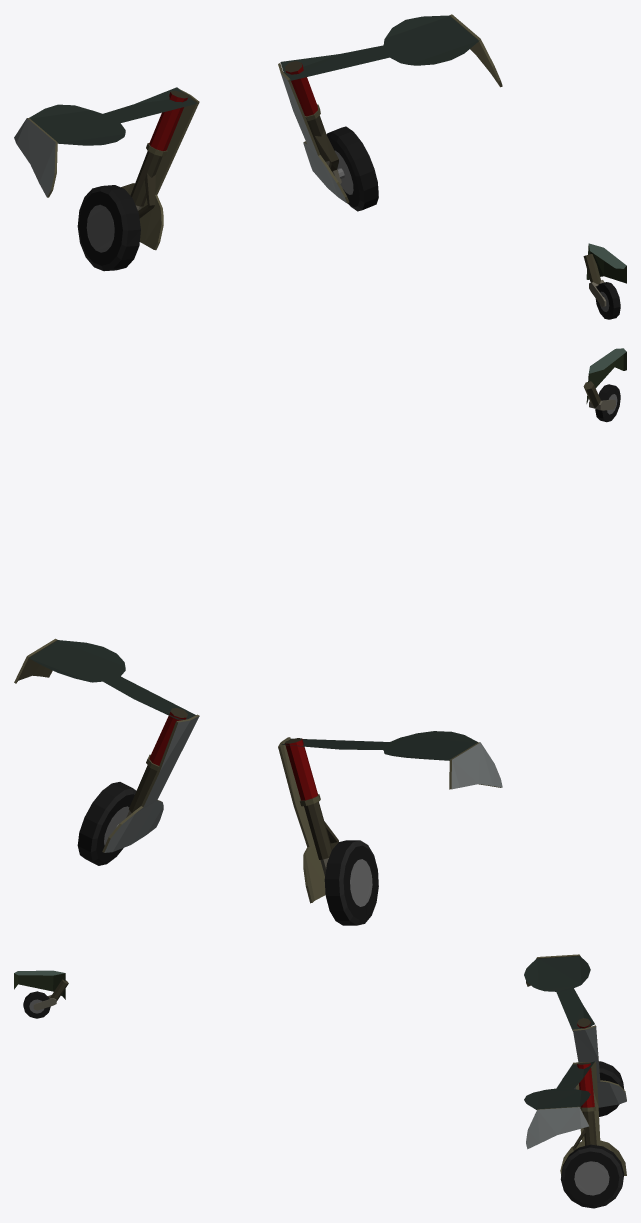
Rendered from Gear_BF109NP.obj.
3 renders of one model, top to bottom at view 1: azimuth 30°, elevation 25°; view 2: azimuth 150°, elevation 25°; view 3: azimuth 270°, elevation 25°, orthographic. The views are drawn at different scales.
Parts seen in each view (by area): view 1: ShapeIndexedFaceSet.117_ShapeIndexedFaceSet.118, ShapeIndexedFaceSet.101_ShapeIndexedFaceSet.102, ShapeIndexedFaceSet.097_ShapeIndexedFaceSet.098, ShapeIndexedFaceSet.110_ShapeIndexedFaceSet.111, ShapeIndexedFaceSet.113_ShapeIndexedFaceSet.114, ShapeIndexedFaceSet.099_ShapeIndexedFaceSet.100, ShapeIndexedFaceSet.104_ShapeIndexedFaceSet.105, ShapeIndexedFaceSet.096_ShapeIndexedFaceSet.097, ShapeIndexedFaceSet.102_ShapeIndexedFaceSet.103, ShapeIndexedFaceSet.108_ShapeIndexedFaceSet.109, ShapeIndexedFaceSet.100_ShapeIndexedFaceSet.101, ShapeIndexedFaceSet.111_ShapeIndexedFaceSet.112 (+4 smaller); view 2: ShapeIndexedFaceSet.117_ShapeIndexedFaceSet.118, ShapeIndexedFaceSet.104_ShapeIndexedFaceSet.105, ShapeIndexedFaceSet.101_ShapeIndexedFaceSet.102, ShapeIndexedFaceSet.110_ShapeIndexedFaceSet.111, ShapeIndexedFaceSet.097_ShapeIndexedFaceSet.098, ShapeIndexedFaceSet.113_ShapeIndexedFaceSet.114, ShapeIndexedFaceSet.102_ShapeIndexedFaceSet.103, ShapeIndexedFaceSet.099_ShapeIndexedFaceSet.100, ShapeIndexedFaceSet.096_ShapeIndexedFaceSet.097; view 3: ShapeIndexedFaceSet.117_ShapeIndexedFaceSet.118, ShapeIndexedFaceSet.110_ShapeIndexedFaceSet.111, ShapeIndexedFaceSet.115_ShapeIndexedFaceSet.116, ShapeIndexedFaceSet.095_ShapeIndexedFaceSet.096, ShapeIndexedFaceSet.105_ShapeIndexedFaceSet.106, ShapeIndexedFaceSet.106_ShapeIndexedFaceSet.107, ShapeIndexedFaceSet.109_ShapeIndexedFaceSet.110, ShapeIndexedFaceSet.124_ShapeIndexedFaceSet.125, ShapeIndexedFaceSet.108_ShapeIndexedFaceSet.109, ShapeIndexedFaceSet.111_ShapeIndexedFaceSet.112, ShapeIndexedFaceSet.101_ShapeIndexedFaceSet.102.
Part boxes in pixels (left/top/right/bottom): ShapeIndexedFaceSet.117_ShapeIndexedFaceSet.118: left=29, top=15, right=479, bottom=145; ShapeIndexedFaceSet.101_ShapeIndexedFaceSet.102: left=79, top=185, right=140, bottom=271; ShapeIndexedFaceSet.097_ShapeIndexedFaceSet.098: left=121, top=89, right=199, bottom=250; ShapeIndexedFaceSet.110_ShapeIndexedFaceSet.111: left=329, top=126, right=378, bottom=209; ShapeIndexedFaceSet.113_ShapeIndexedFaceSet.114: left=14, top=118, right=55, bottom=196; ShapeIndexedFaceSet.099_ShapeIndexedFaceSet.100: left=130, top=90, right=187, bottom=218; ShapeIndexedFaceSet.104_ShapeIndexedFaceSet.105: left=280, top=73, right=346, bottom=202; ShapeIndexedFaceSet.096_ShapeIndexedFaceSet.097: left=86, top=204, right=114, bottom=252; ShapeIndexedFaceSet.102_ShapeIndexedFaceSet.103: left=149, top=92, right=187, bottom=151; ShapeIndexedFaceSet.108_ShapeIndexedFaceSet.109: left=285, top=61, right=338, bottom=171; ShapeIndexedFaceSet.100_ShapeIndexedFaceSet.101: left=77, top=186, right=127, bottom=270; ShapeIndexedFaceSet.111_ShapeIndexedFaceSet.112: left=285, top=63, right=317, bottom=116; ShapeIndexedFaceSet.117_ShapeIndexedFaceSet.118: left=29, top=640, right=477, bottom=760; ShapeIndexedFaceSet.104_ShapeIndexedFaceSet.105: left=104, top=716, right=199, bottom=852; ShapeIndexedFaceSet.101_ShapeIndexedFaceSet.102: left=325, top=840, right=378, bottom=925; ShapeIndexedFaceSet.110_ShapeIndexedFaceSet.111: left=77, top=782, right=134, bottom=865; ShapeIndexedFaceSet.097_ShapeIndexedFaceSet.098: left=278, top=737, right=325, bottom=903; ShapeIndexedFaceSet.113_ShapeIndexedFaceSet.114: left=451, top=742, right=502, bottom=789; ShapeIndexedFaceSet.102_ShapeIndexedFaceSet.103: left=285, top=738, right=317, bottom=800; ShapeIndexedFaceSet.099_ShapeIndexedFaceSet.100: left=285, top=738, right=338, bottom=859; ShapeIndexedFaceSet.096_ShapeIndexedFaceSet.097: left=350, top=859, right=372, bottom=906; ShapeIndexedFaceSet.117_ShapeIndexedFaceSet.118: left=524, top=956, right=594, bottom=1109; ShapeIndexedFaceSet.110_ShapeIndexedFaceSet.111: left=562, top=1144, right=624, bottom=1204; ShapeIndexedFaceSet.115_ShapeIndexedFaceSet.116: left=526, top=1107, right=588, bottom=1149; ShapeIndexedFaceSet.095_ShapeIndexedFaceSet.096: left=573, top=1026, right=626, bottom=1107; ShapeIndexedFaceSet.105_ShapeIndexedFaceSet.106: left=574, top=1161, right=609, bottom=1195; ShapeIndexedFaceSet.106_ShapeIndexedFaceSet.107: left=560, top=1062, right=626, bottom=1175; ShapeIndexedFaceSet.109_ShapeIndexedFaceSet.110: left=560, top=1147, right=623, bottom=1208; ShapeIndexedFaceSet.124_ShapeIndexedFaceSet.125: left=14, top=973, right=65, bottom=999; ShapeIndexedFaceSet.108_ShapeIndexedFaceSet.109: left=572, top=1062, right=596, bottom=1150; ShapeIndexedFaceSet.111_ShapeIndexedFaceSet.112: left=577, top=1063, right=594, bottom=1107; ShapeIndexedFaceSet.101_ShapeIndexedFaceSet.102: left=598, top=1061, right=624, bottom=1114.
Bounding box in the file's own units: 39.35 × 21.17 × 62.29.
